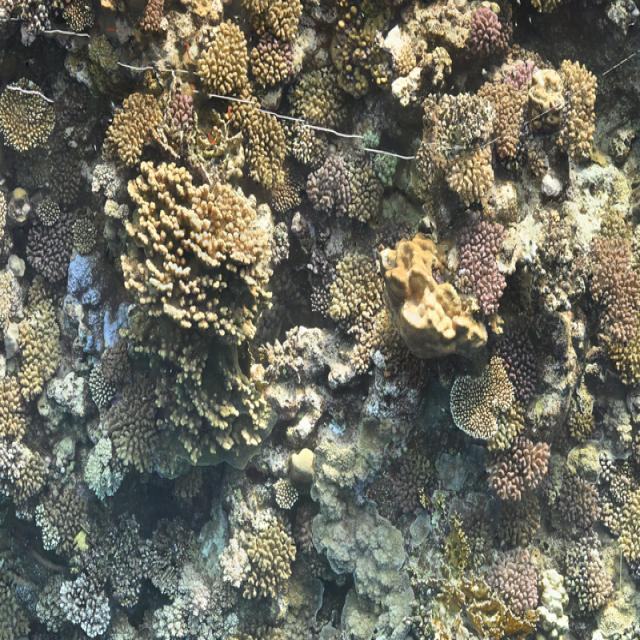Bleached Coral: (316, 426, 409, 640), (150, 575, 229, 640), (74, 434, 132, 511), (53, 572, 119, 636), (79, 150, 131, 200), (63, 250, 102, 314), (216, 535, 251, 601)
Healthy Coral: (114, 180, 289, 349), (455, 364, 553, 509), (321, 256, 401, 351), (226, 111, 297, 183), (178, 28, 259, 91), (466, 231, 515, 319)
